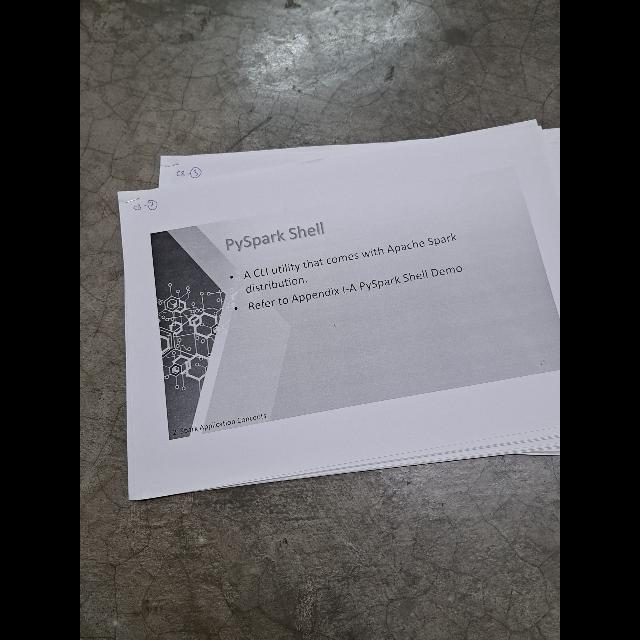papel: (120, 113, 560, 500)
